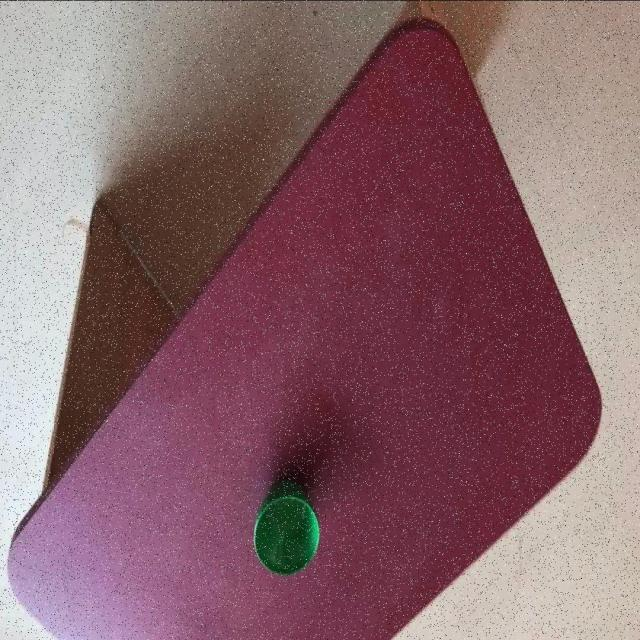Bowl: (4, 13, 602, 640), (252, 478, 320, 574)
